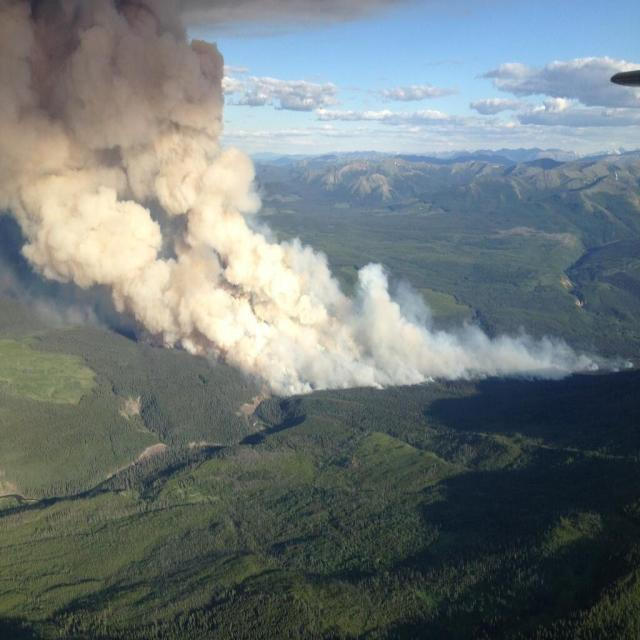Smoke: (16, 11, 294, 334), (253, 224, 543, 372)
